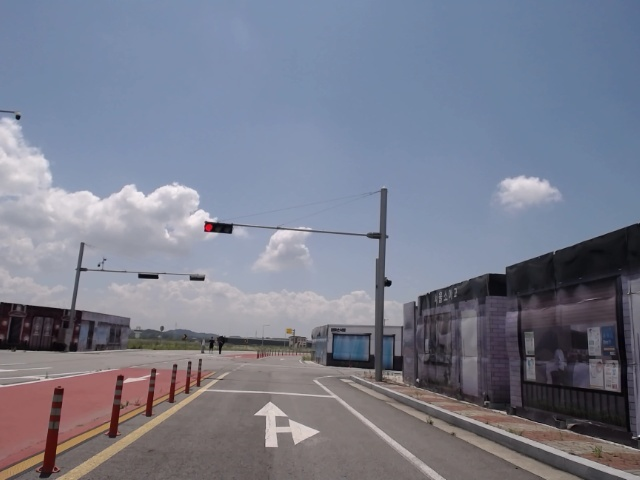red_3: (203, 220, 234, 235)
